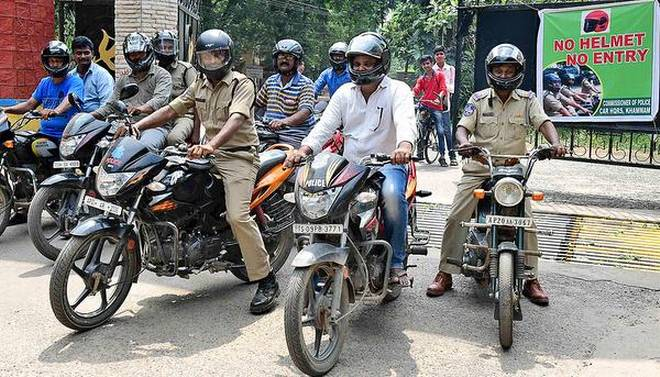plate: (81, 193, 128, 223), (487, 211, 538, 235), (287, 221, 348, 237), (46, 159, 86, 171)
tw: (52, 134, 288, 335), (284, 157, 416, 377), (456, 145, 559, 354), (39, 107, 98, 264)
